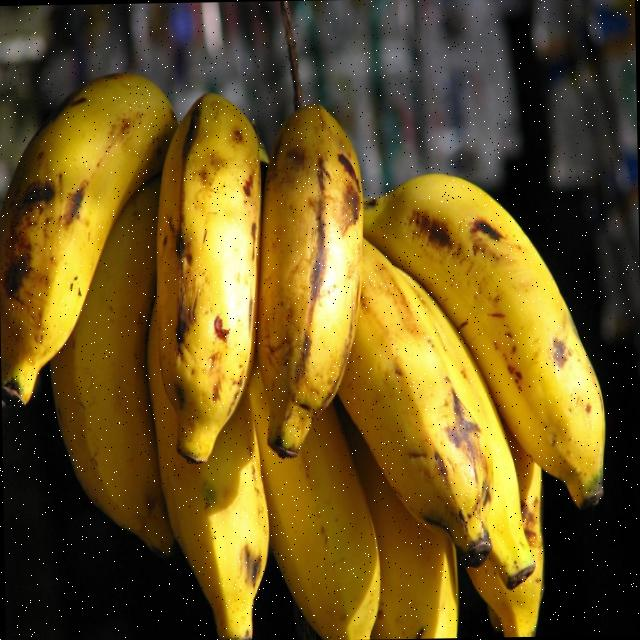banana: (362, 173, 607, 511), (0, 73, 177, 403)
